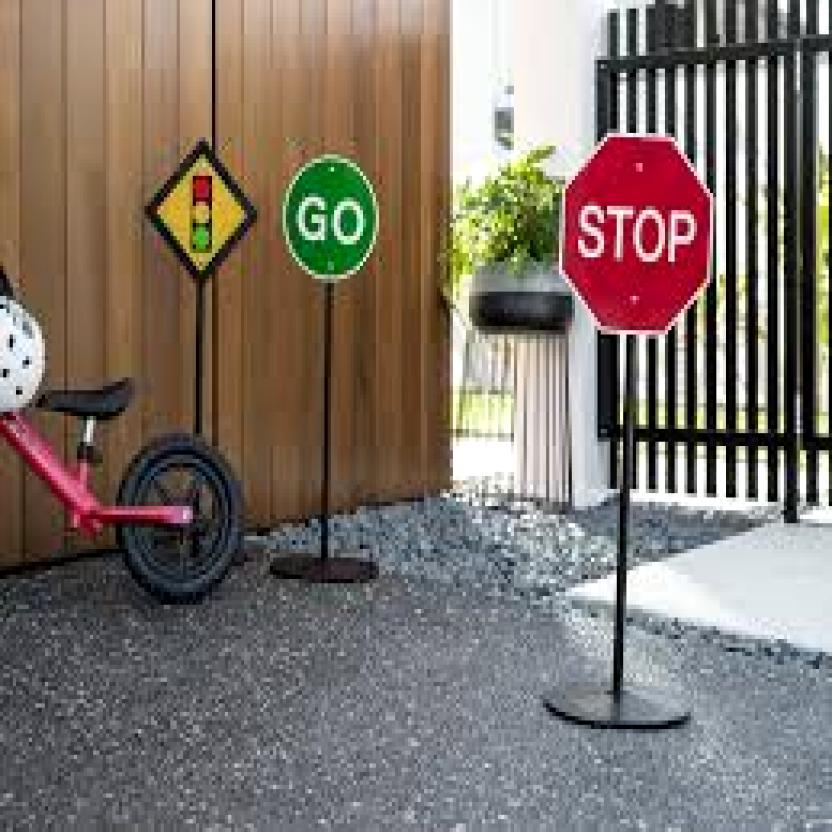Pole: (614, 336, 628, 692), (323, 283, 333, 547), (194, 283, 206, 431)
Sign: (562, 136, 714, 330)
